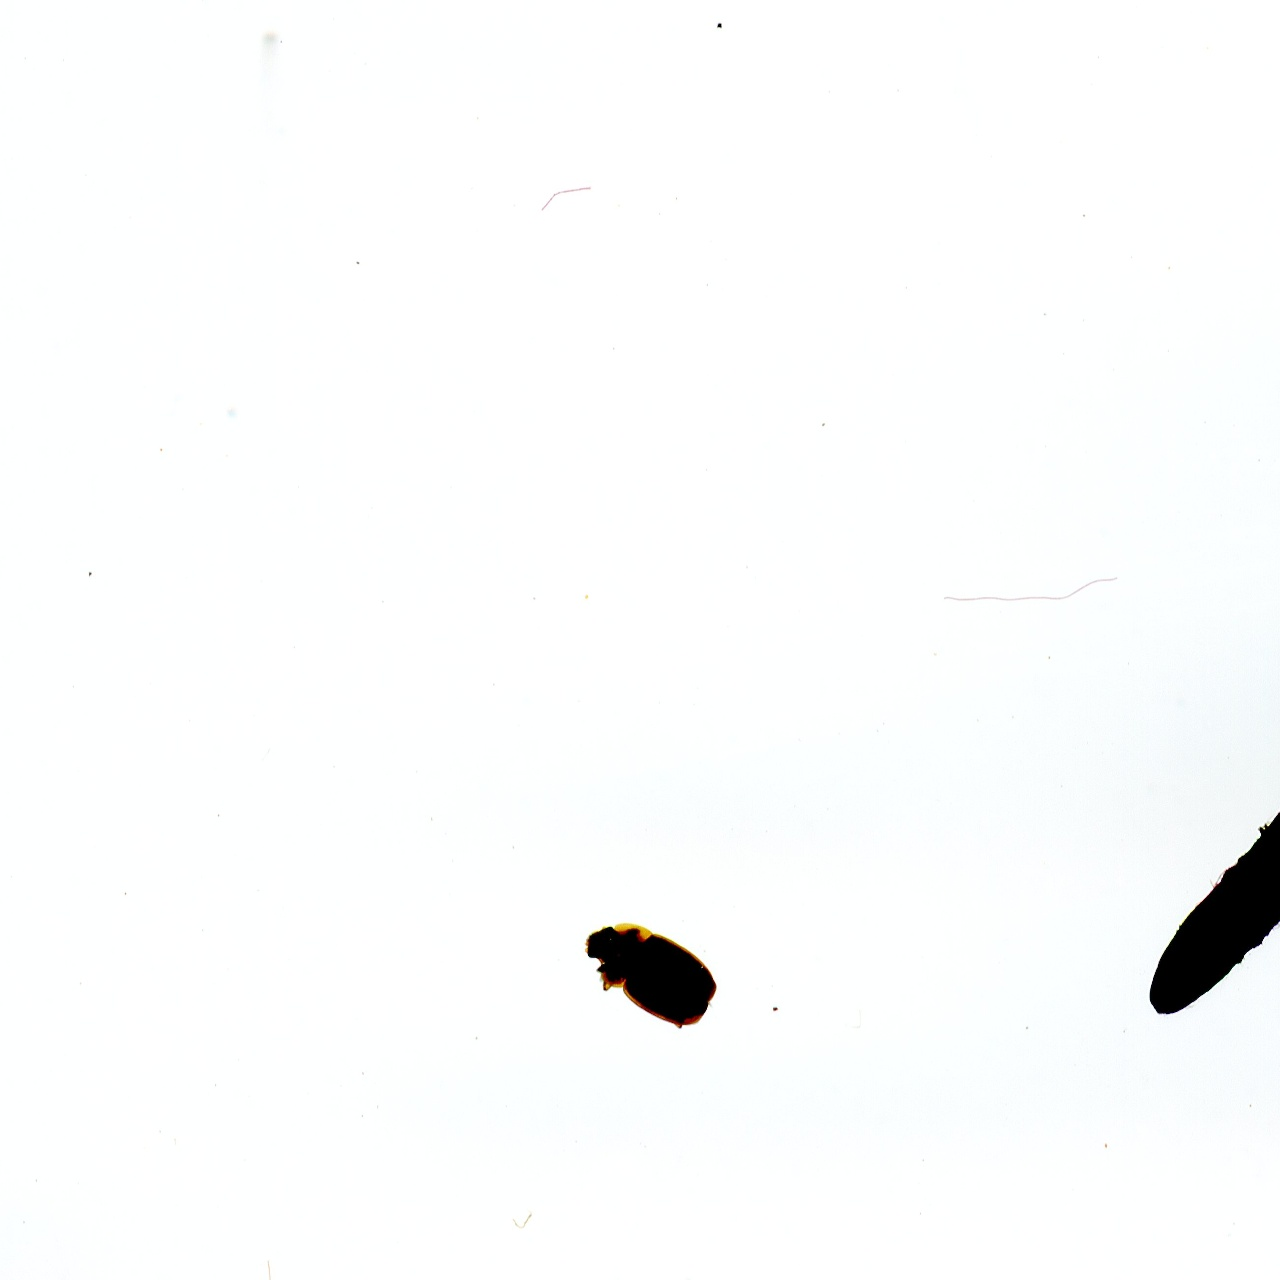arthropod: (561, 892, 736, 1049)
